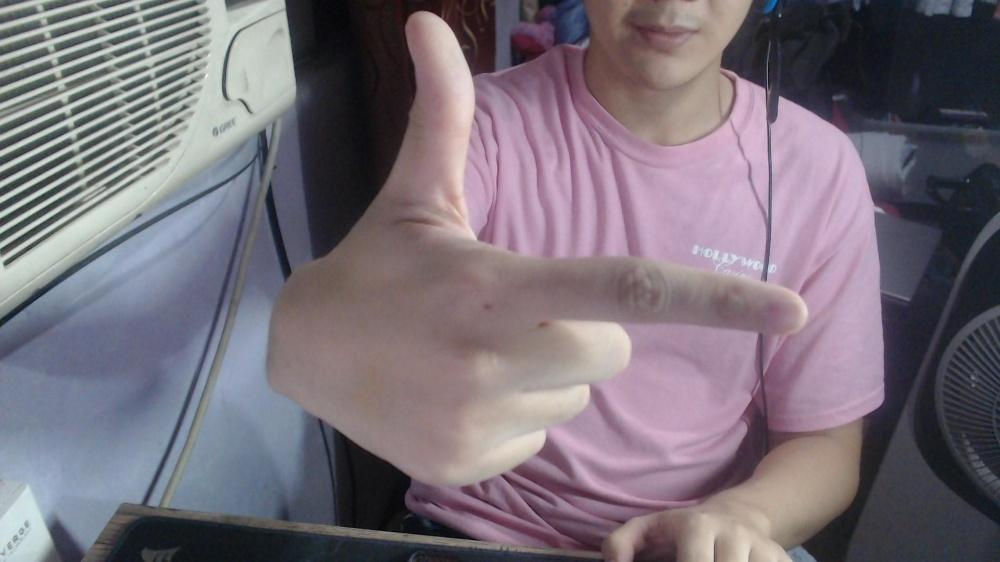g: (263, 7, 812, 492)
